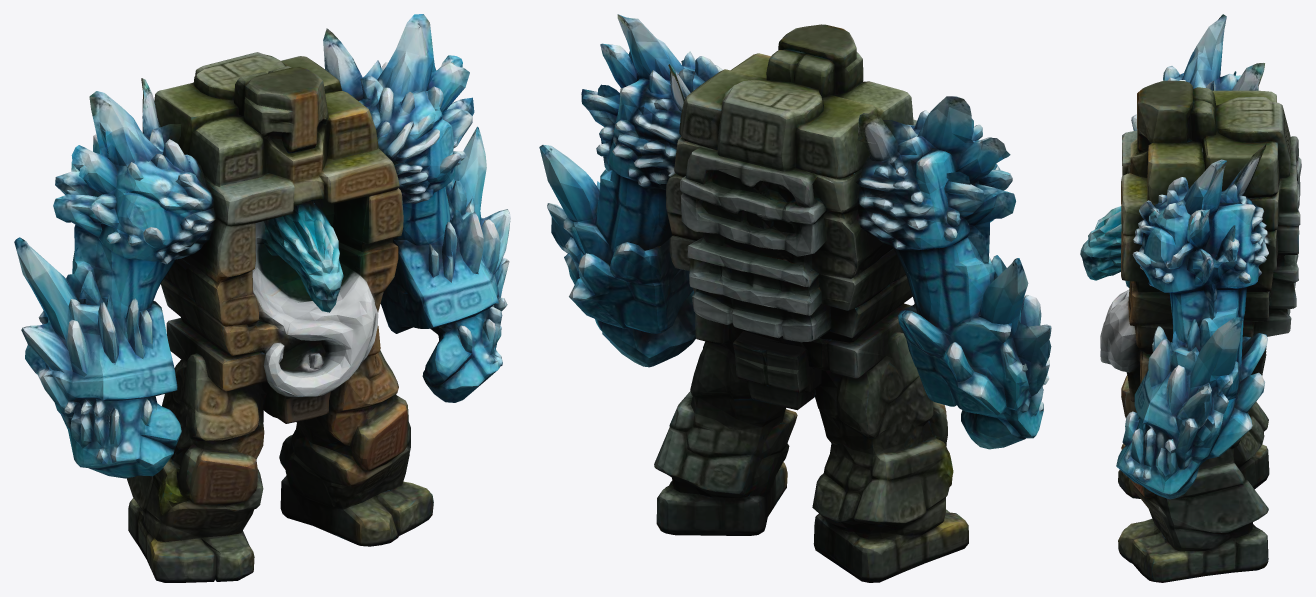
File: bulwyrm__drakegolem.glb
3 views of the same model, side by side, from view 1: azimuth 30°, elevation 25°; view 2: azimuth 150°, elevation 25°; view 3: azimuth 270°, elevation 25° (orthographic). The views are drawn at different scales.
Visible parts, largest first — view 1: world; view 2: world; view 3: world.
Boxes of the visible parts, left/top/right/bottom form: world: left=14, top=14, right=510, bottom=582; world: left=539, top=14, right=1051, bottom=582; world: left=1080, top=14, right=1301, bottom=582.
Size of the model in its own units: 1 by 0.9229 by 0.4262.
Materials: 1 (1 with a texture image).
